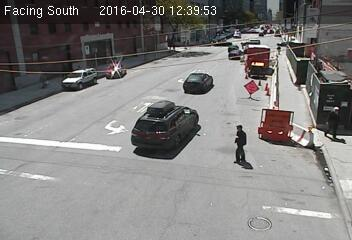neg: (286, 8, 307, 36), (62, 90, 81, 115), (139, 66, 157, 90), (184, 73, 197, 89), (146, 16, 157, 31), (81, 19, 88, 28), (259, 16, 266, 25), (187, 21, 193, 29)
pos: (223, 121, 257, 166), (320, 103, 348, 140), (35, 68, 49, 87), (275, 45, 283, 55)
